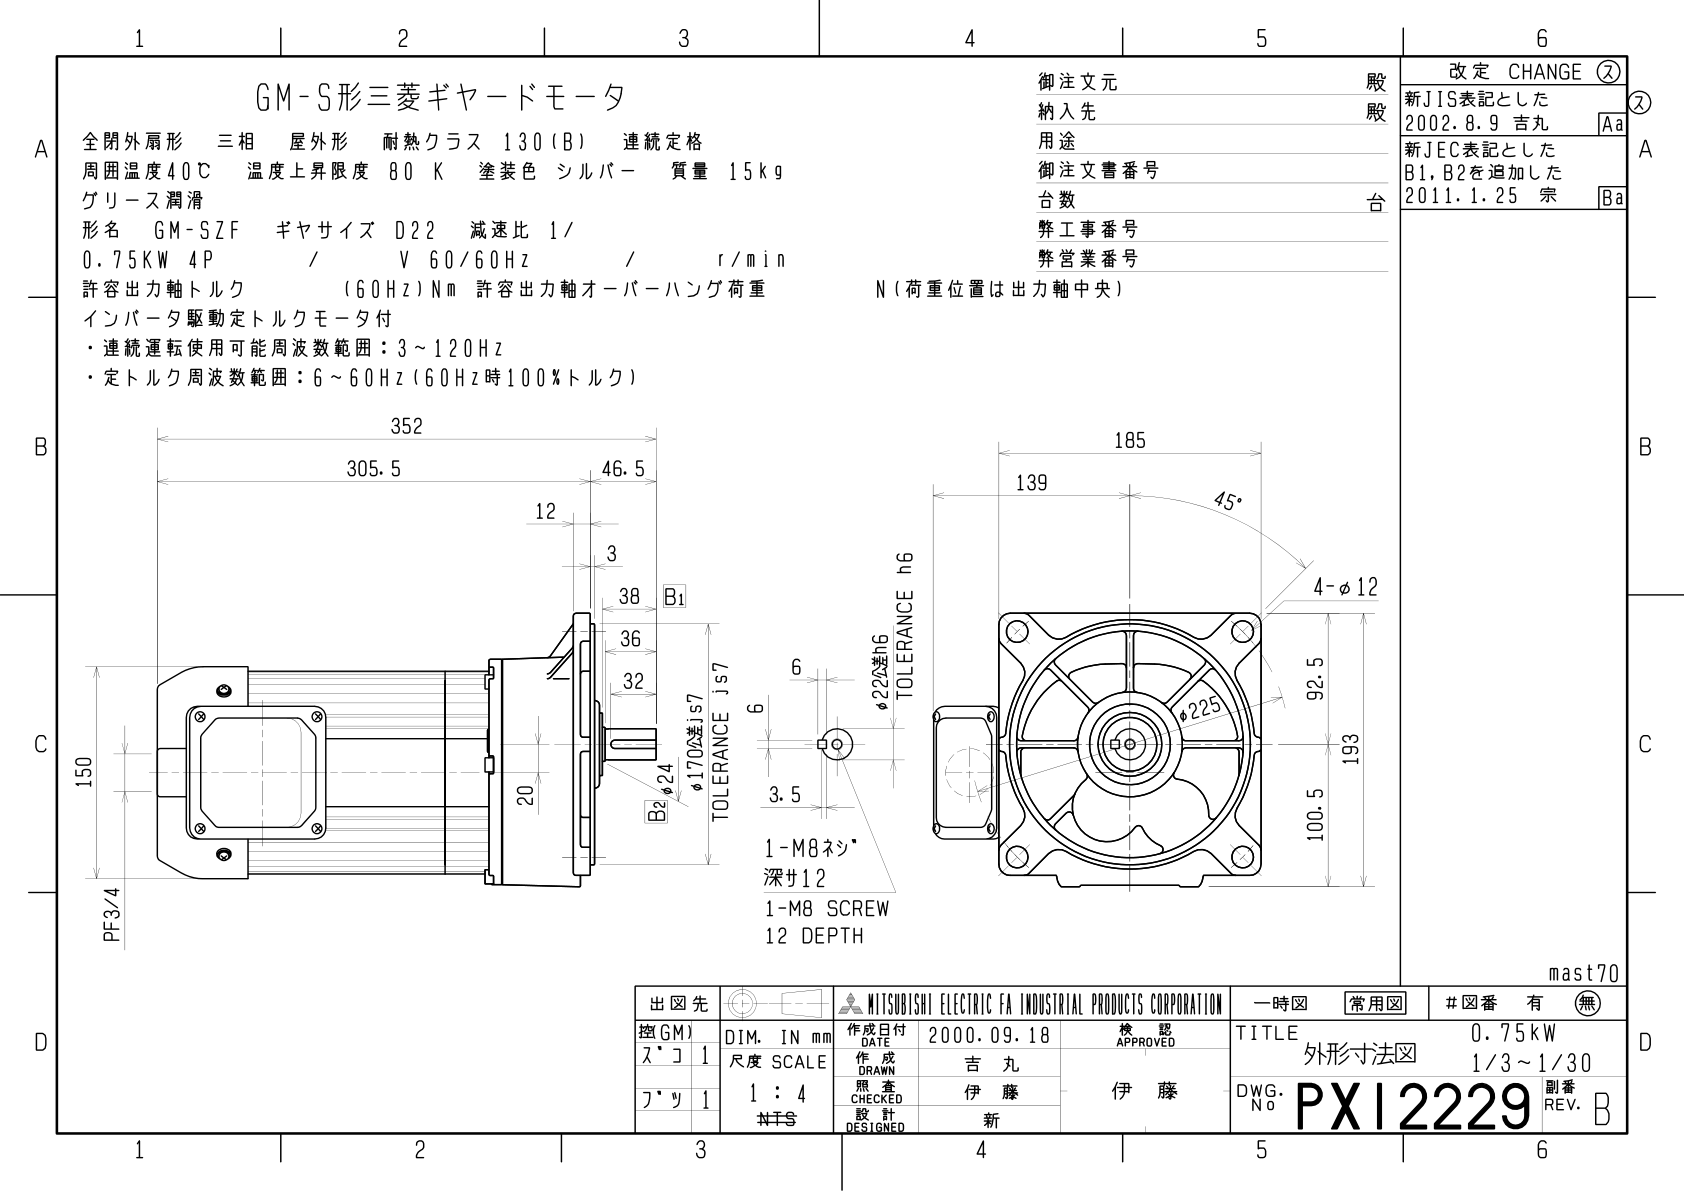GM_S_インバタ屋外＿三相_フランジ: (9, 5, 1684, 1191)
